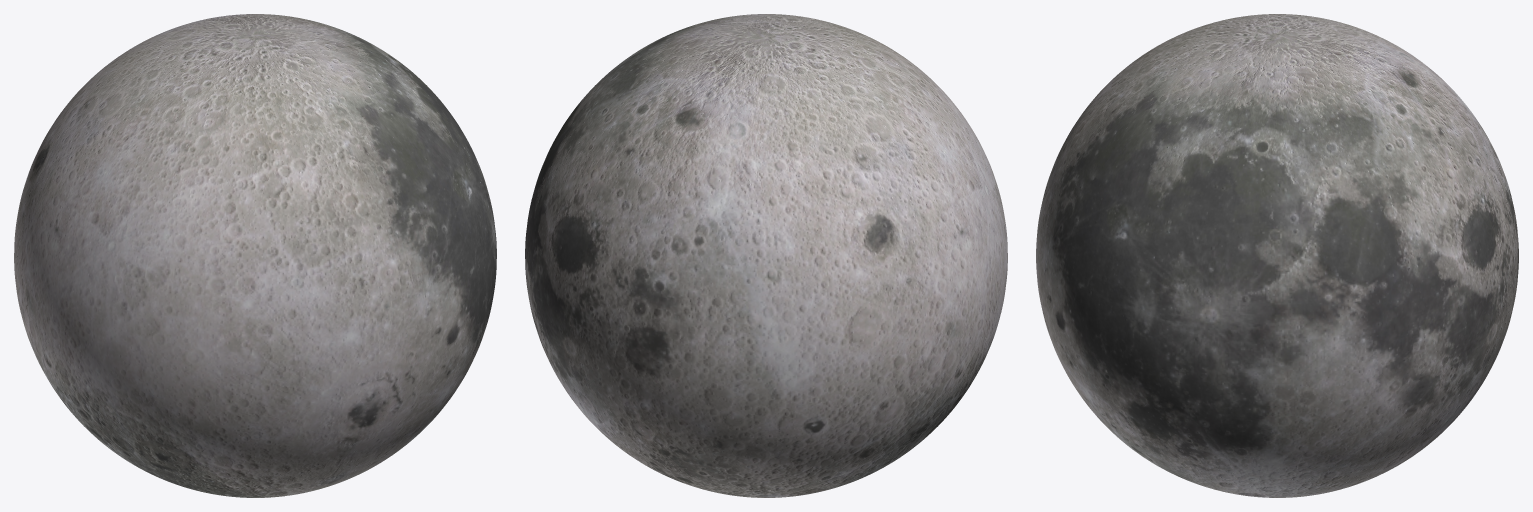
Rendered from Moon.compressed.glb.
3 renders of one model, left to right at view 1: azimuth 30°, elevation 25°; view 2: azimuth 150°, elevation 25°; view 3: azimuth 270°, elevation 25°, orthographic.
Parts seen in each view (by area): view 1: Moon; view 2: Moon; view 3: Moon.
Boxes of the visible parts, x1=… form: Moon: x1=14, y1=14, x2=496, y2=497; Moon: x1=525, y1=14, x2=1007, y2=497; Moon: x1=1036, y1=14, x2=1518, y2=497.
Size of the model in its own units: 1.99 by 2 by 1.99.
1 material, 1 textured.
